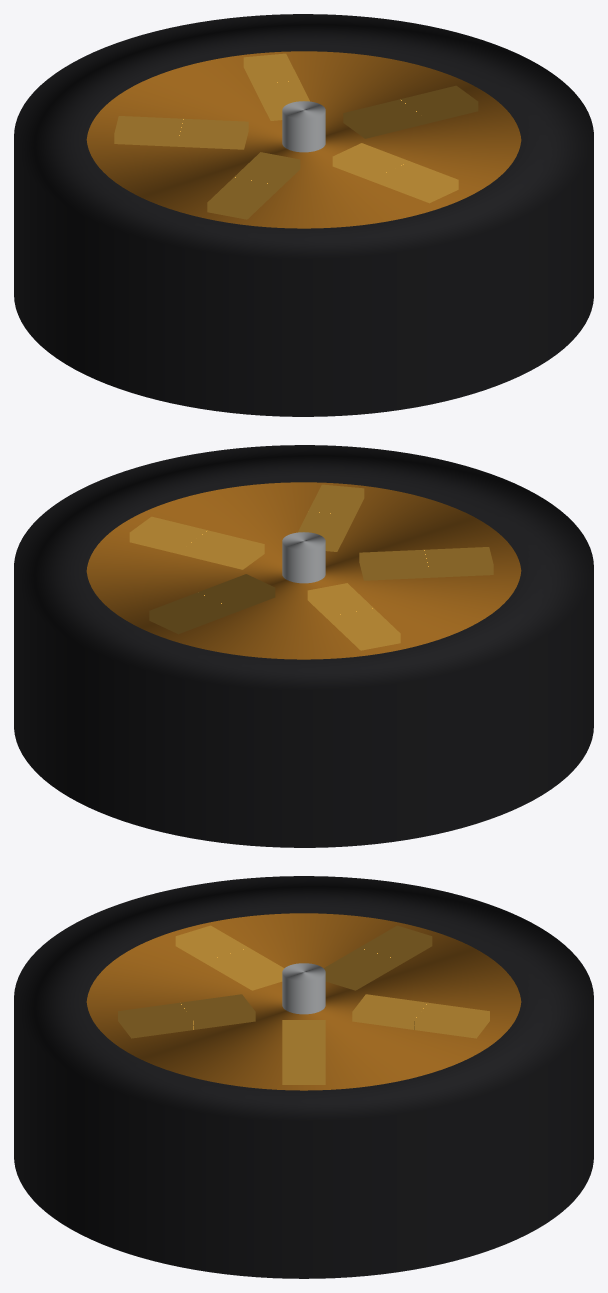
Rendered from wheel.obj.
3 renders of one model, top to bottom at view 1: azimuth 30°, elevation 25°; view 2: azimuth 150°, elevation 25°; view 3: azimuth 270°, elevation 25°, orthographic.
Parts seen in each view (by area): view 1: tyre, rim, spoke_mark, spoke_mark_3, spoke_mark_5, spoke_mark_4, spoke_mark_2, axle; view 2: tyre, rim, spoke_mark, spoke_mark_4, spoke_mark_2, spoke_mark_3, spoke_mark_5, axle; view 3: tyre, rim, spoke_mark_2, spoke_mark_5, spoke_mark_3, spoke_mark_4, spoke_mark, axle.
Boxes of the visible parts, x1=… form: tyre: x1=14, y1=14, x2=593, y2=416; rim: x1=86, y1=51, x2=521, y2=228; spoke_mark: x1=343, y1=85, x2=478, y2=138; spoke_mark_3: x1=114, y1=116, x2=248, y2=149; spoke_mark_5: x1=332, y1=143, x2=458, y2=203; spoke_mark_4: x1=207, y1=152, x2=300, y2=219; spoke_mark_2: x1=243, y1=53, x2=309, y2=120; axle: x1=282, y1=101, x2=325, y2=152; tyre: x1=14, y1=445, x2=593, y2=847; rim: x1=86, y1=482, x2=521, y2=659; spoke_mark: x1=129, y1=516, x2=264, y2=569; spoke_mark_4: x1=359, y1=547, x2=493, y2=580; spoke_mark_2: x1=149, y1=574, x2=275, y2=634; spoke_mark_3: x1=307, y1=583, x2=400, y2=650; spoke_mark_5: x1=298, y1=484, x2=364, y2=551; axle: x1=282, y1=532, x2=325, y2=583; tyre: x1=14, y1=876, x2=593, y2=1278; rim: x1=86, y1=913, x2=521, y2=1090; spoke_mark_2: x1=352, y1=994, x2=489, y2=1038; spoke_mark_5: x1=118, y1=994, x2=255, y2=1038; spoke_mark_3: x1=324, y1=925, x2=432, y2=990; spoke_mark_4: x1=175, y1=925, x2=283, y2=990; spoke_mark: x1=282, y1=1020, x2=325, y2=1084; axle: x1=282, y1=963, x2=325, y2=1014.
Size of the model in its own units: 0.08 by 0.032 by 0.08.
